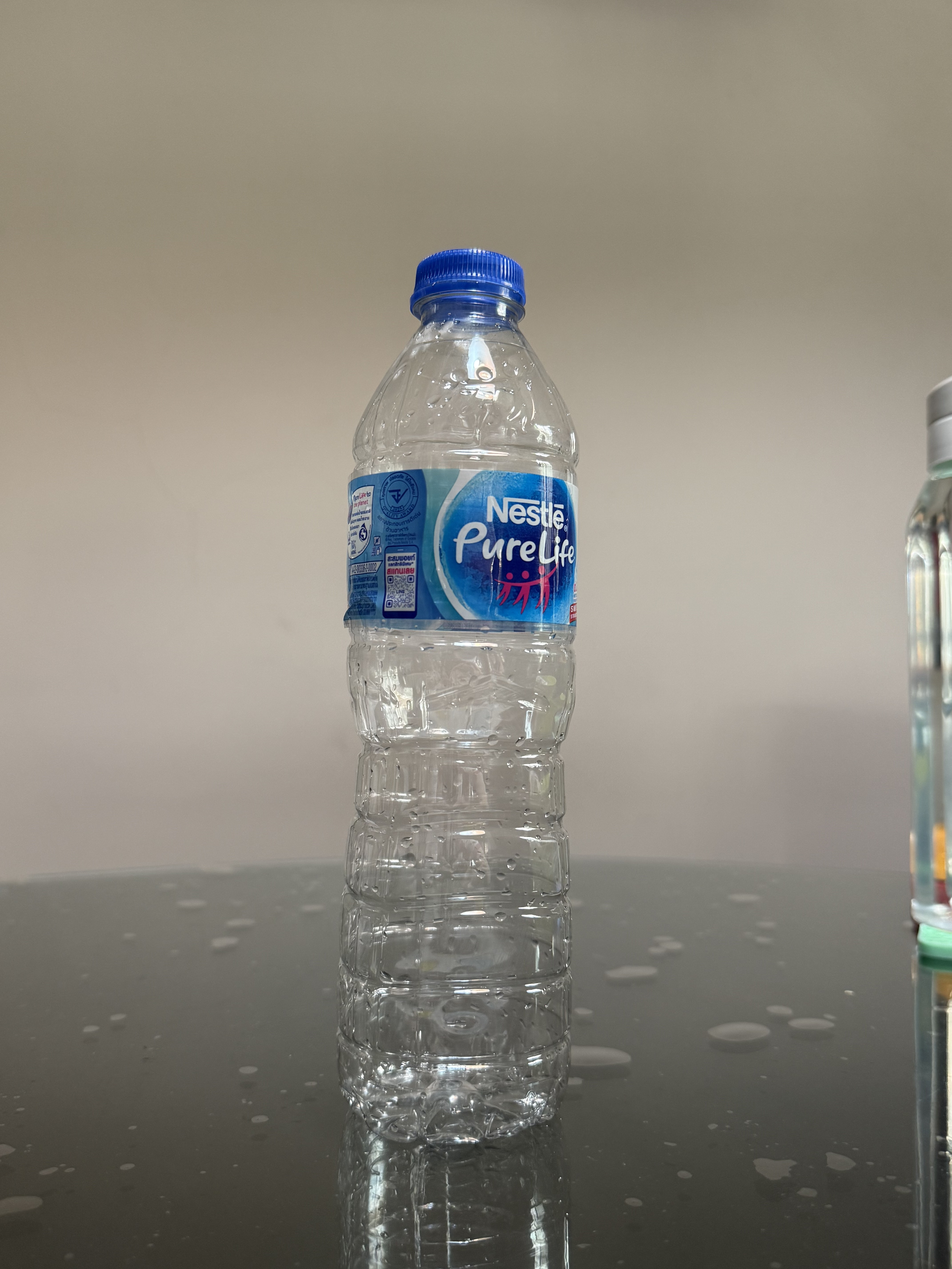closed_cap: (408, 245, 528, 318)
